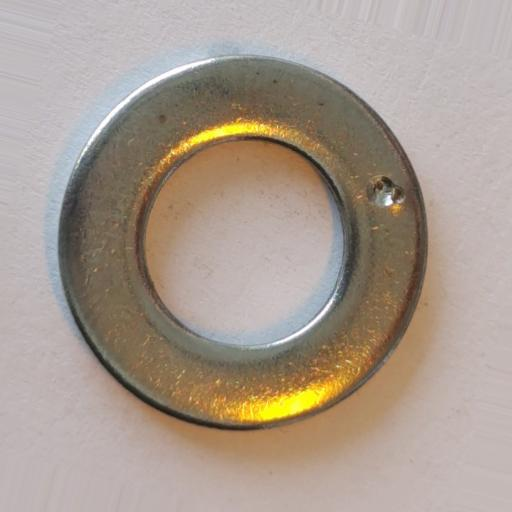circular_cavity: (366, 174, 407, 208)
